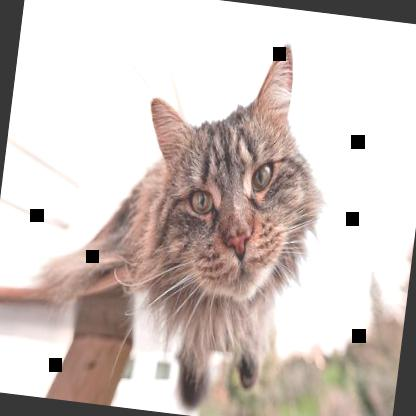cat: (40, 20, 341, 415)
